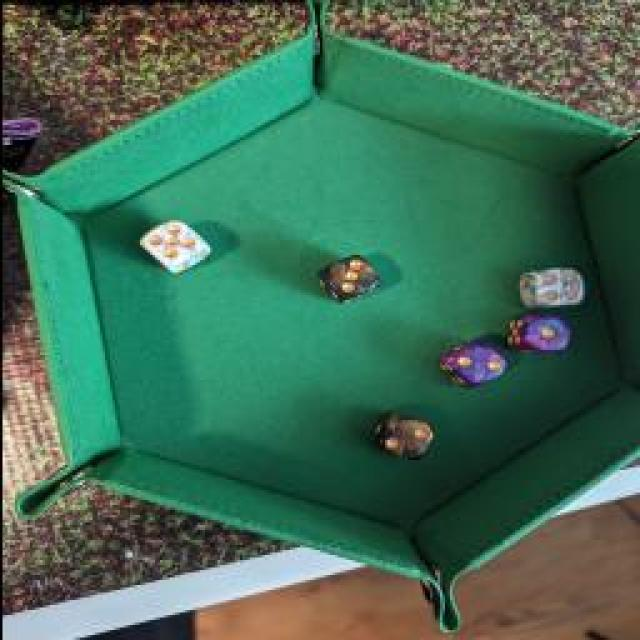dice_1: (498, 312, 568, 356)
dice_2: (362, 406, 438, 466), (434, 339, 506, 391)
dice_3: (316, 252, 384, 308)
dice_4: (515, 264, 585, 311)
dice_5: (135, 219, 213, 276)
